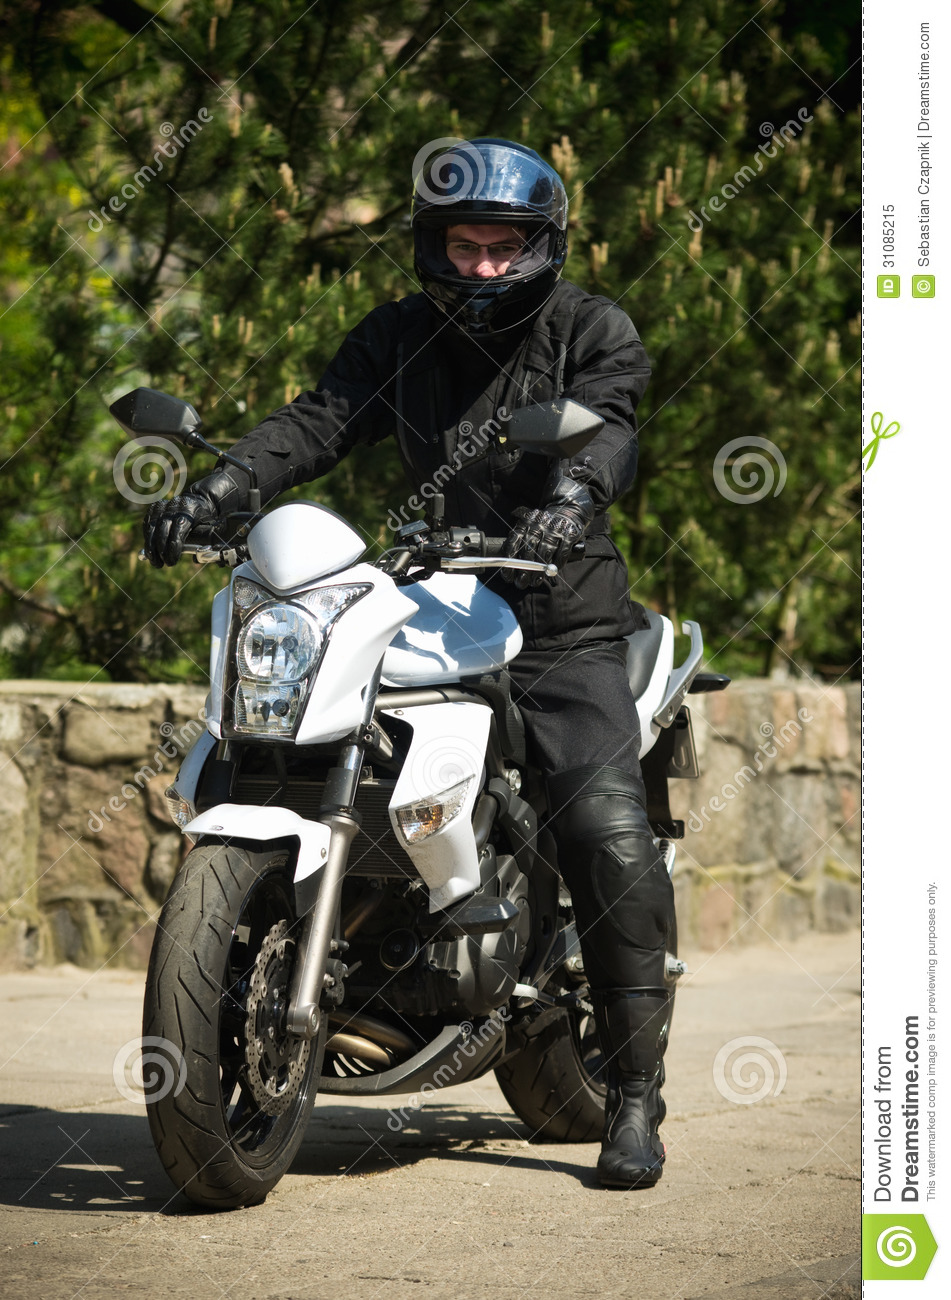helmet: (401, 131, 565, 317)
